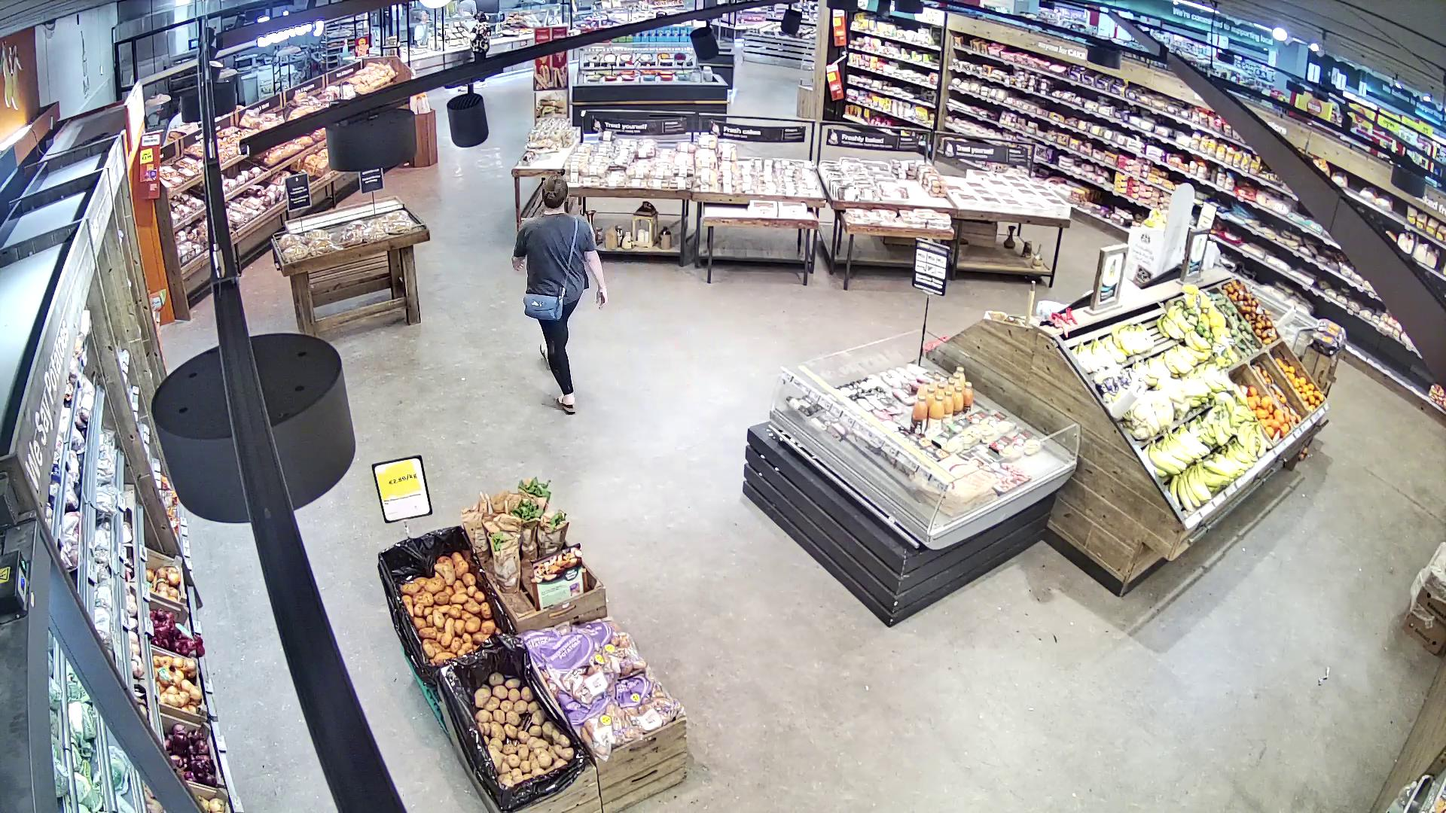backpack-or-handbag: (522, 290, 564, 320)
person: (511, 178, 608, 413)
person-with-backpack-handbag: (511, 176, 608, 413)
